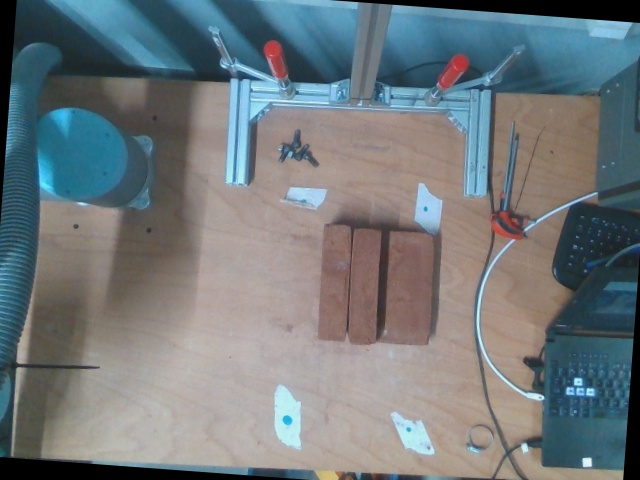brick: (379, 232, 436, 344)
brick-side: (315, 224, 352, 340), (346, 228, 379, 343)
